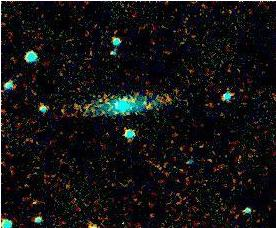star: (21, 185, 51, 215)
